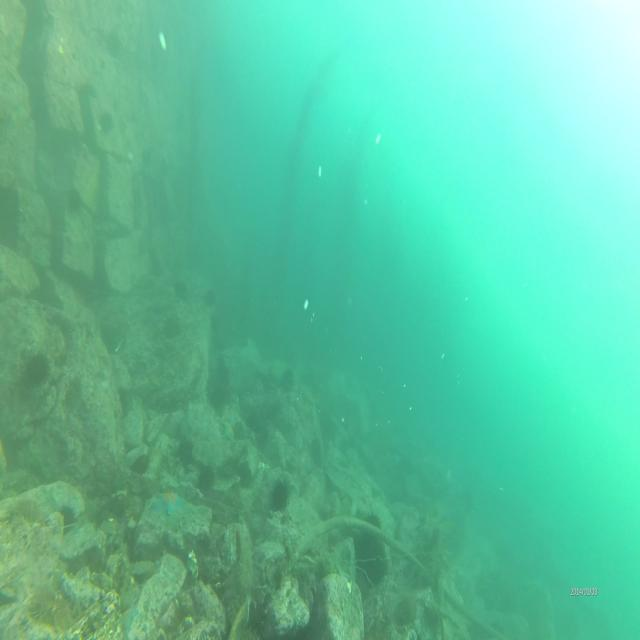echinus: (361, 511, 392, 578), (30, 590, 69, 634), (24, 348, 54, 392), (57, 500, 79, 536), (196, 462, 216, 498), (163, 308, 184, 342), (270, 477, 290, 512), (176, 435, 195, 471), (65, 181, 82, 220), (105, 27, 123, 62), (96, 104, 117, 134), (76, 75, 99, 102), (236, 457, 254, 489), (131, 451, 151, 478), (173, 269, 190, 298), (280, 364, 294, 394), (199, 282, 216, 306)
starfish: (151, 488, 184, 520), (119, 600, 140, 637)
